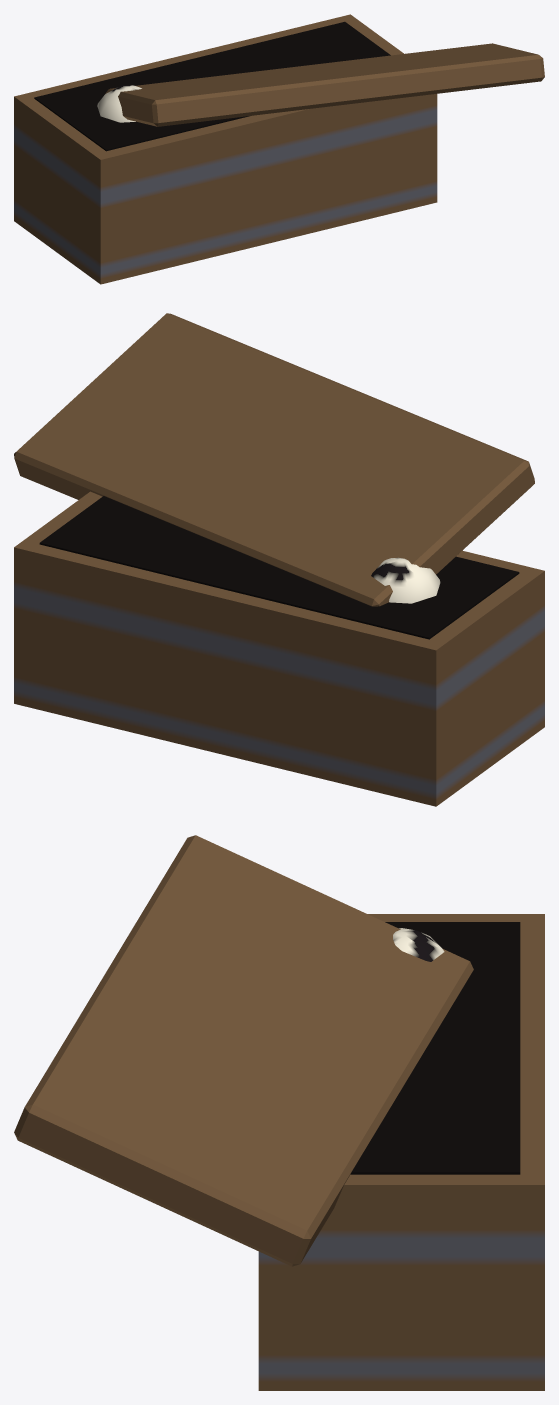
File: prop_sarcoo_acfc.glb
3 renders of one model, top to bottom at view 1: azimuth 30°, elevation 25°; view 2: azimuth 150°, elevation 25°; view 3: azimuth 270°, elevation 25°, orthographic. The views are drawn at different scales.
Visible parts, largest first — view 1: prop_sarcoo_acfc; view 2: prop_sarcoo_acfc; view 3: prop_sarcoo_acfc.
Boxes of the visible parts, left/top/right/bottom form: prop_sarcoo_acfc: left=14, top=14, right=544, bottom=284; prop_sarcoo_acfc: left=14, top=313, right=544, bottom=806; prop_sarcoo_acfc: left=14, top=835, right=544, bottom=1390.
Bounding box in the file's own units: 1.4 × 0.6188 × 0.9509.
1 material, 1 textured.
